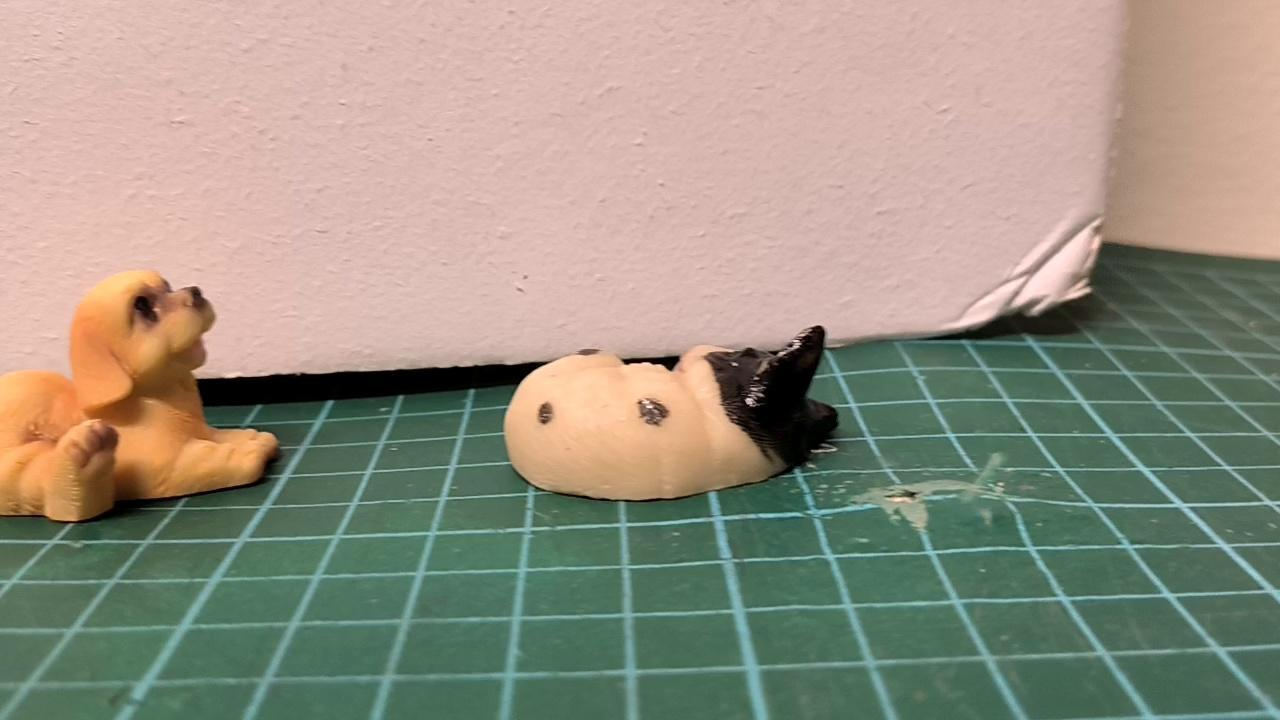pet: (0, 271, 279, 522), (505, 321, 840, 501)
